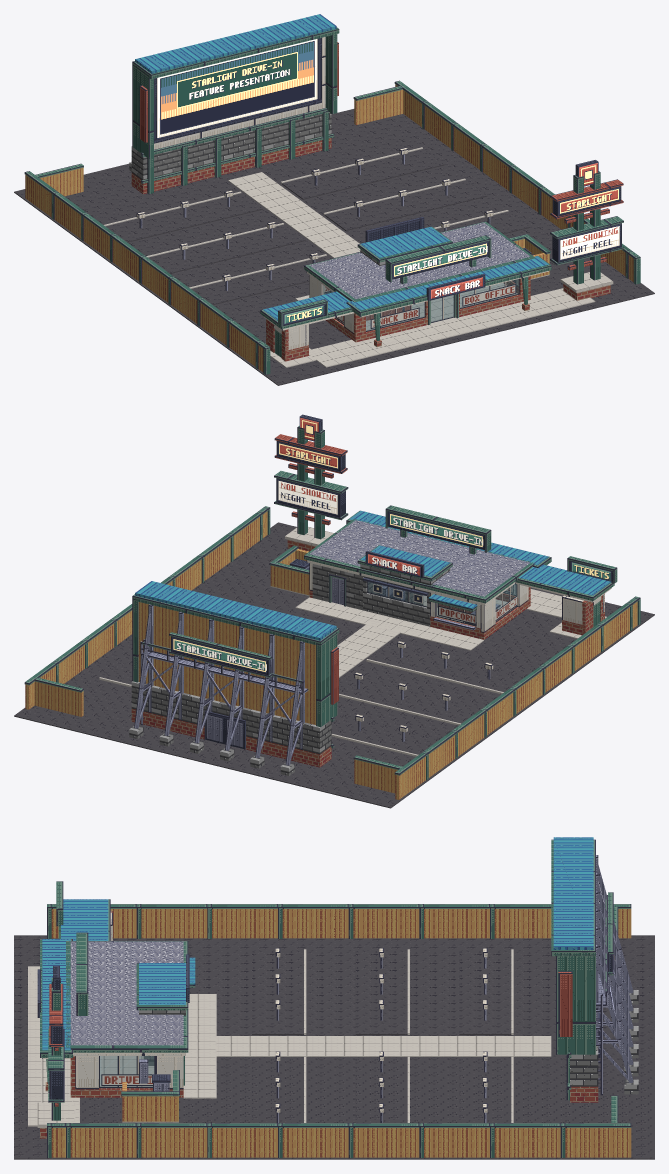
File: starlight-drive-in.glb
The picture shows the model from 3 angles, top to bottom: view 1: azimuth 30°, elevation 25°; view 2: azimuth 150°, elevation 25°; view 3: azimuth 270°, elevation 25°; orthographic projection. The views are drawn at different scales.
Visible parts, largest first — view 1: lot, structure, marquee_pylon, service_yard, door_panel_main; view 2: lot, structure, marquee_pylon, service_yard; view 3: lot, structure, marquee_pylon, service_yard.
Boxes of the visible parts, left/top/right/bottom form: lot: left=14, top=80, right=654, bottom=385; structure: left=129, top=14, right=551, bottom=361; marquee_pylon: left=550, top=160, right=623, bottom=300; service_yard: left=509, top=234, right=550, bottom=279; door_panel_main: left=430, top=294, right=456, bottom=323; lot: left=14, top=506, right=654, bottom=808; structure: left=129, top=505, right=617, bottom=775; marquee_pylon: left=274, top=414, right=348, bottom=551; service_yard: left=269, top=545, right=309, bottom=595; lot: left=14, top=904, right=654, bottom=1159; structure: left=37, top=837, right=638, bottom=1102; marquee_pylon: left=37, top=965, right=75, bottom=1138; service_yard: left=121, top=1059, right=179, bottom=1122.
Size of what is drawn, in the model's own units: 34.76 by 11.48 by 42.21.
Materials: 12 (12 with a texture image).
